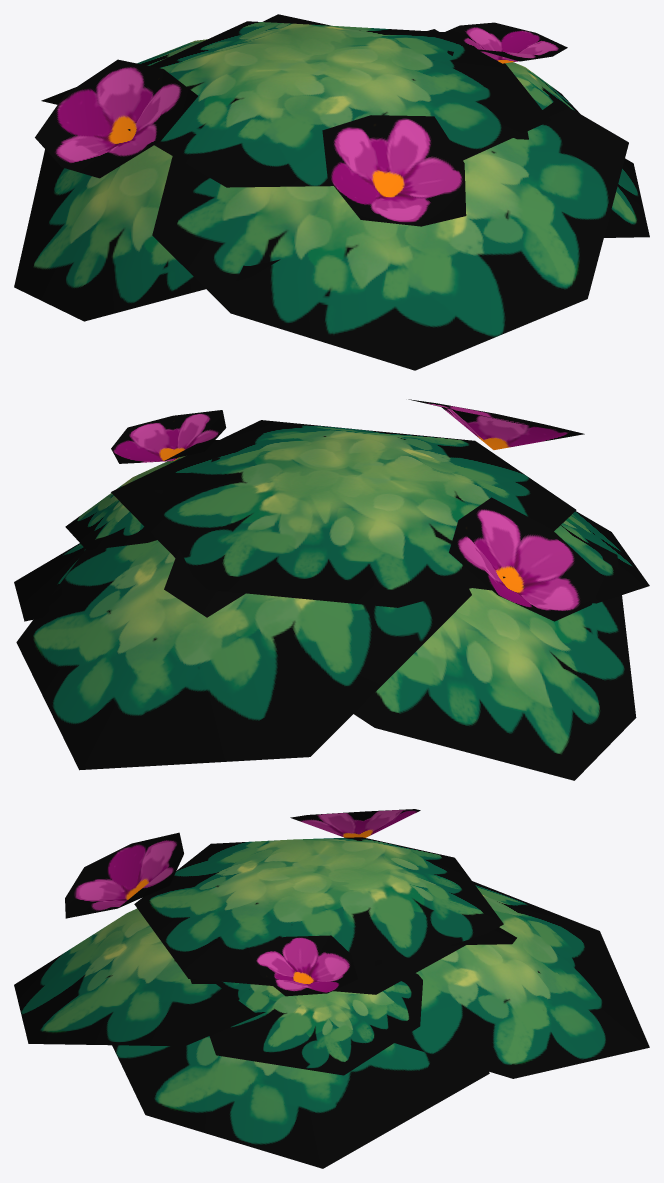
The model's file is SM_Bush_02.fbx.
3 renders of one model, top to bottom at view 1: azimuth 30°, elevation 25°; view 2: azimuth 150°, elevation 25°; view 3: azimuth 270°, elevation 25°, orthographic. The views are drawn at different scales.
Visible parts, largest first — view 1: Bush5; view 2: Bush5; view 3: Bush5.
Part boxes in pixels (<box>): Bush5: <box>14,14,649,370</box>; Bush5: <box>14,399,649,780</box>; Bush5: <box>14,809,649,1168</box>.
Bounding box in the file's own units: 165 × 55.98 × 178.
1 material, 1 textured.
